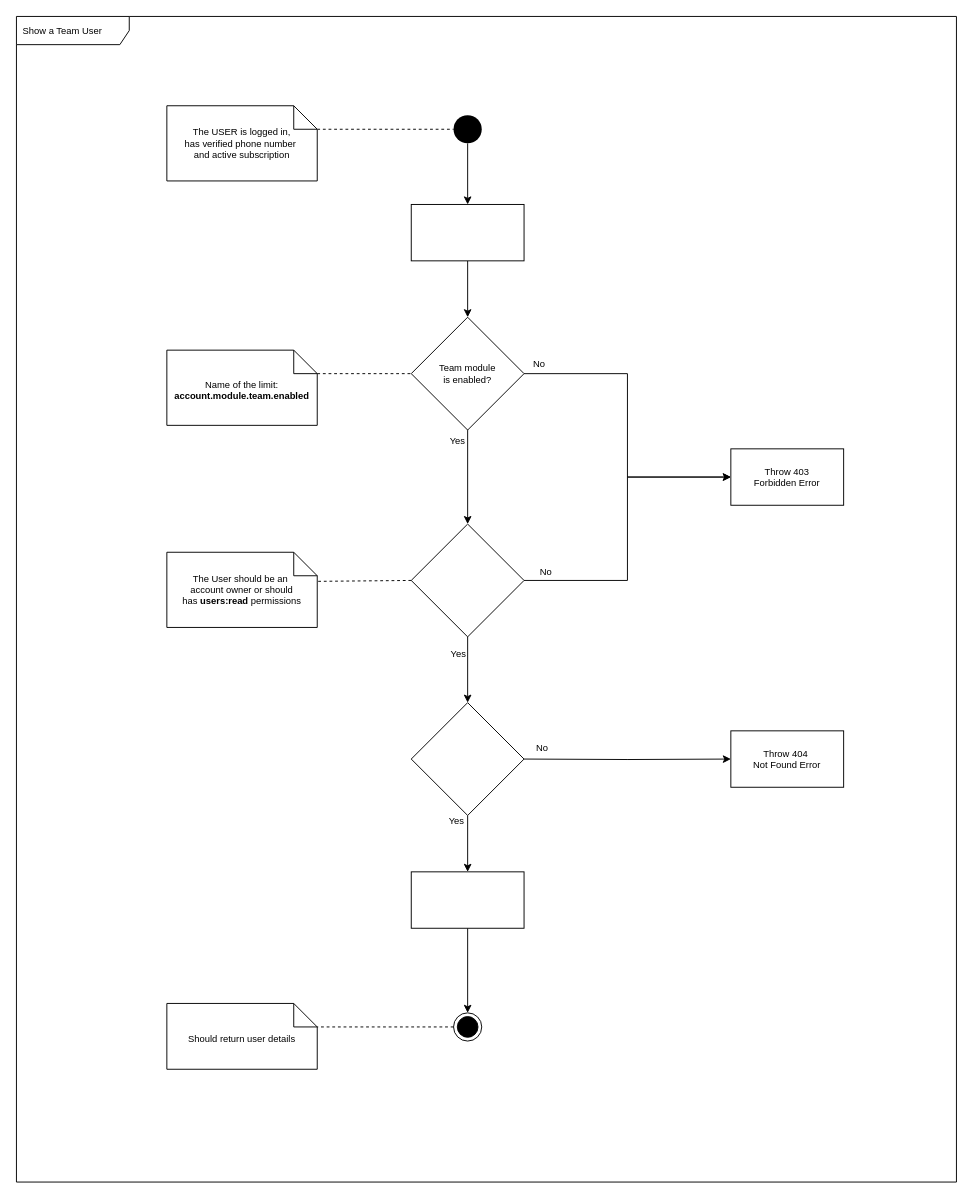
Image size: 973x1199. Some labels were removed from this diagram. The centre of each missing label's shape, as x and y in pixels:
"Has access to read Users?" belongs at (467,580).
"Is user exists?" belongs at (467,758).
"Return requested User" belongs at (467,899).
"User request backend to show a Team User by providing his ID" belongs at (467,232).
